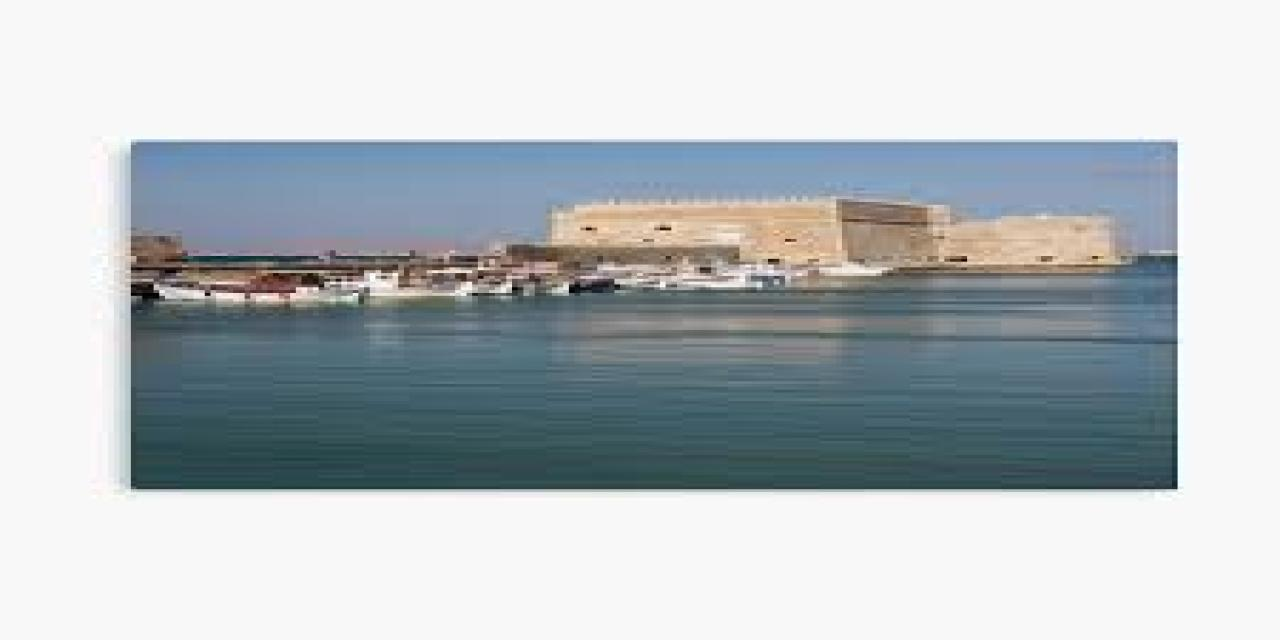Kules: (544, 201, 1146, 279)
